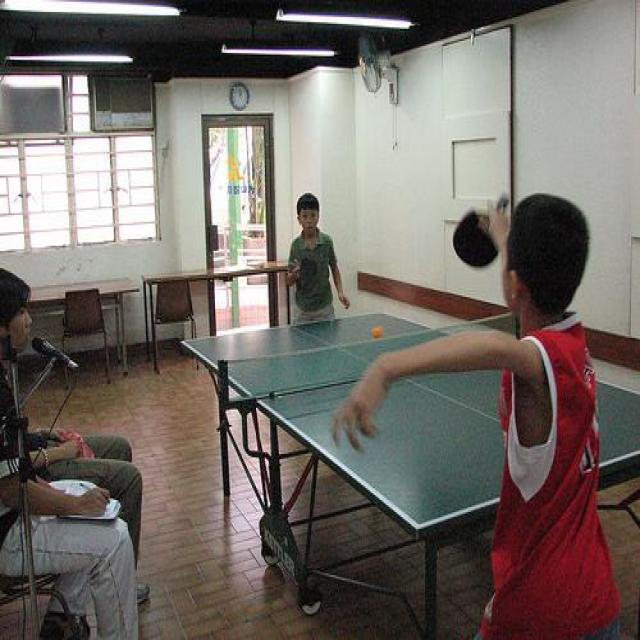ping-pong-ball: (371, 324, 384, 338)
